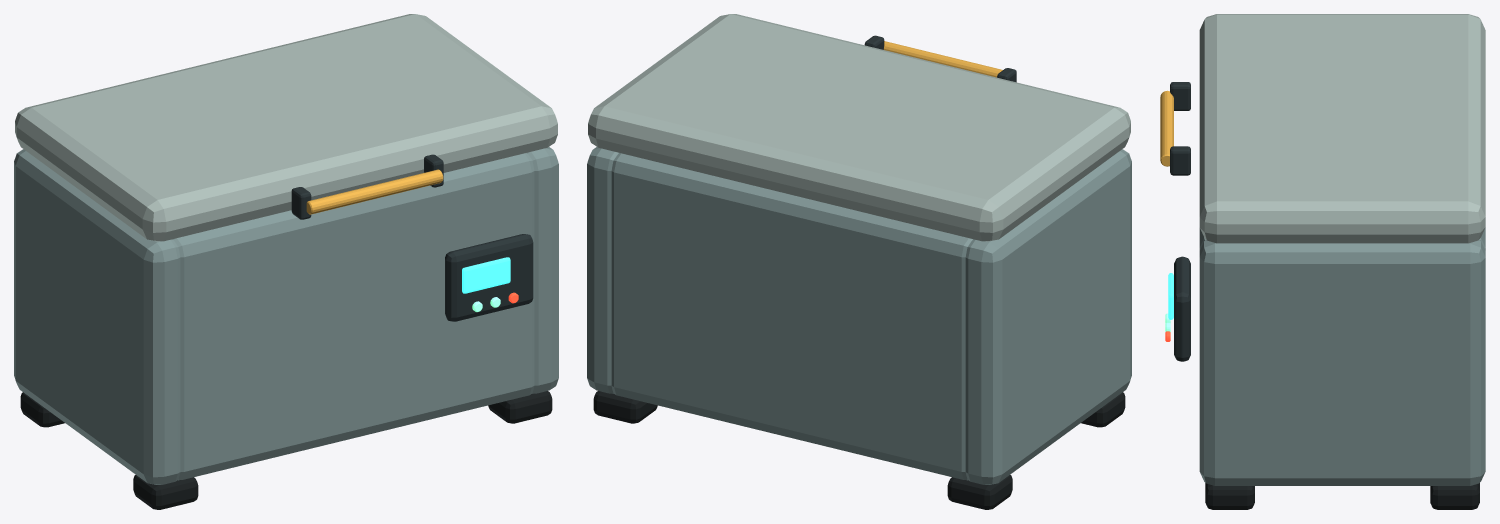
The model's file is Congélateur coffre blindé.glb.
3 views of the same model, side by side, from view 1: azimuth 30°, elevation 25°; view 2: azimuth 150°, elevation 25°; view 3: azimuth 270°, elevation 25° (orthographic).
Parts seen in each view (by area): view 1: FREEZER_Front_Armored_Wall, FREEZER_Lid_Slab, FREEZER_Left_Armored_Wall, FREEZER_Right_Armored_Wall, FREEZER_Control_Recess, FREEZER_Lid_Handle_Grip, FREEZER_Foot_-1_-1, FREEZER_Foot_1_-1, FREEZER_Cyan_Display, FREEZER_Foot_-1_1; view 2: FREEZER_Rear_Armored_Wall, FREEZER_Lid_Slab, FREEZER_Left_Armored_Wall, FREEZER_Right_Armored_Wall, FREEZER_Foot_-1_1, FREEZER_Foot_1_1, FREEZER_Lid_Handle_Grip, FREEZER_Foot_-1_-1; view 3: FREEZER_Right_Armored_Wall, FREEZER_Lid_Slab, FREEZER_Control_Recess, FREEZER_Foot_1_-1, FREEZER_Foot_1_1, FREEZER_Lid_Handle_Grip, FREEZER_Lid_Handle_Mount_R, FREEZER_Lid_Handle_Mount_L.
Part boxes in pixels (box(x1,y1,x2,y2)): FREEZER_Front_Armored_Wall: box(173, 153, 534, 480); FREEZER_Lid_Slab: box(15, 14, 557, 241); FREEZER_Left_Armored_Wall: box(14, 149, 180, 484); FREEZER_Right_Armored_Wall: box(527, 147, 558, 393); FREEZER_Control_Recess: box(445, 234, 533, 321); FREEZER_Lid_Handle_Grip: box(306, 169, 443, 214); FREEZER_Foot_-1_-1: box(133, 475, 198, 509); FREEZER_Foot_1_-1: box(488, 391, 552, 423); FREEZER_Cyan_Display: box(462, 257, 510, 293); FREEZER_Foot_-1_1: box(20, 392, 64, 427); FREEZER_Rear_Armored_Wall: box(611, 153, 972, 480); FREEZER_Lid_Slab: box(588, 14, 1130, 241); FREEZER_Left_Armored_Wall: box(965, 149, 1131, 484); FREEZER_Right_Armored_Wall: box(587, 147, 618, 393); FREEZER_Foot_-1_1: box(947, 475, 1012, 509); FREEZER_Foot_1_1: box(593, 391, 657, 423); FREEZER_Lid_Handle_Grip: box(883, 41, 1002, 77); FREEZER_Foot_-1_-1: box(1081, 392, 1125, 427); FREEZER_Right_Armored_Wall: box(1199, 240, 1485, 485); FREEZER_Lid_Slab: box(1199, 14, 1485, 243); FREEZER_Control_Recess: box(1174, 256, 1190, 361); FREEZER_Foot_1_-1: box(1205, 483, 1254, 509); FREEZER_Foot_1_1: box(1430, 483, 1479, 509); FREEZER_Lid_Handle_Grip: box(1160, 90, 1173, 166); FREEZER_Lid_Handle_Mount_R: box(1170, 146, 1190, 175); FREEZER_Lid_Handle_Mount_L: box(1170, 82, 1190, 110).
Bounding box in the file's own units: 1.25 × 0.89 × 0.853.
